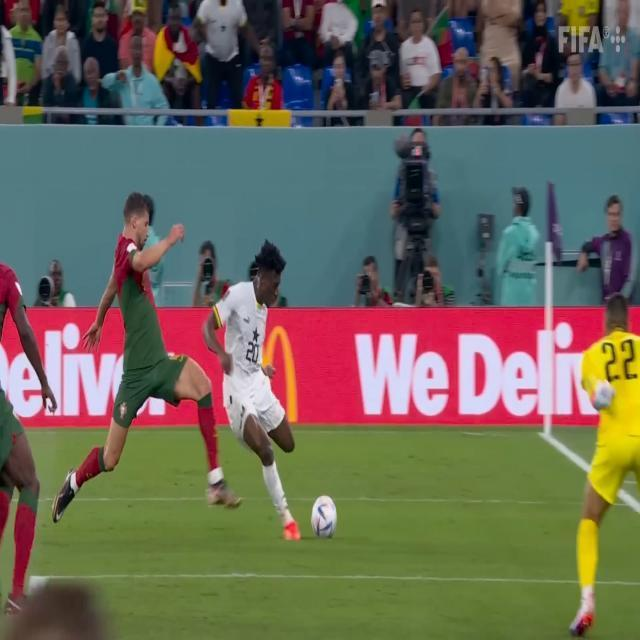football: (308, 477, 342, 540)
